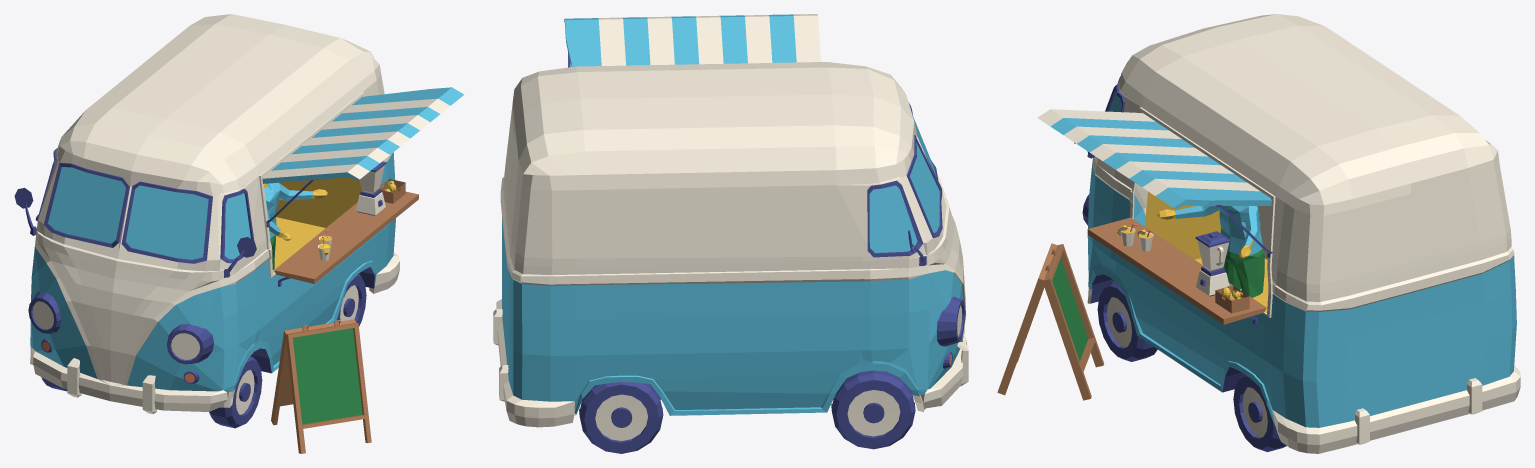
The picture shows the model from 3 angles, left to right: view 1: azimuth 30°, elevation 25°; view 2: azimuth 150°, elevation 25°; view 3: azimuth 270°, elevation 25°; orthographic projection. The views are drawn at different scales.
Parts seen in each view (by area): view 1: おてあげ人_4, おてあげ人_2, おてあげ人_6, おてあげ人_9, おてあげ人_5, おてあげ人_3, おてあげ人, おてあげ人_7; view 2: おてあげ人_4, おてあげ人_2, おてあげ人_5, おてあげ人_6, おてあげ人_7; view 3: おてあげ人_4, おてあげ人_2, おてあげ人_9, おてあげ人_5, おてあげ人, おてあげ人_3, おてあげ人_7.
Part boxes in pixels (bbox=[...]): おてあげ人_4: bbox=[30, 14, 449, 414]; おてあげ人_2: bbox=[30, 87, 464, 392]; おてあげ人_6: bbox=[48, 166, 250, 259]; おてあげ人_9: bbox=[271, 179, 418, 453]; おてあげ人_5: bbox=[35, 148, 386, 428]; おてあげ人_3: bbox=[270, 179, 393, 424]; おてあげ人: bbox=[264, 177, 396, 273]; おてあげ人_7: bbox=[14, 180, 354, 401]; おてあげ人_4: bbox=[493, 14, 968, 440]; おてあげ人_2: bbox=[502, 14, 963, 415]; おてあげ人_5: bbox=[579, 102, 942, 453]; おてあげ人_6: bbox=[869, 117, 939, 252]; おてあげ人_7: bbox=[568, 51, 964, 427]; おてあげ人_4: bbox=[1037, 14, 1520, 453]; おてあげ人_2: bbox=[1050, 118, 1516, 427]; おてあげ人_9: bbox=[997, 217, 1266, 400]; おてあげ人_5: bbox=[1090, 76, 1286, 451]; おてあげ人: bbox=[1117, 191, 1268, 312]; おてあげ人_3: bbox=[1052, 249, 1264, 361]; おてあげ人_7: bbox=[1074, 142, 1272, 422].
Size of the model in its own units: 5.19 by 3.46 by 5.34.
